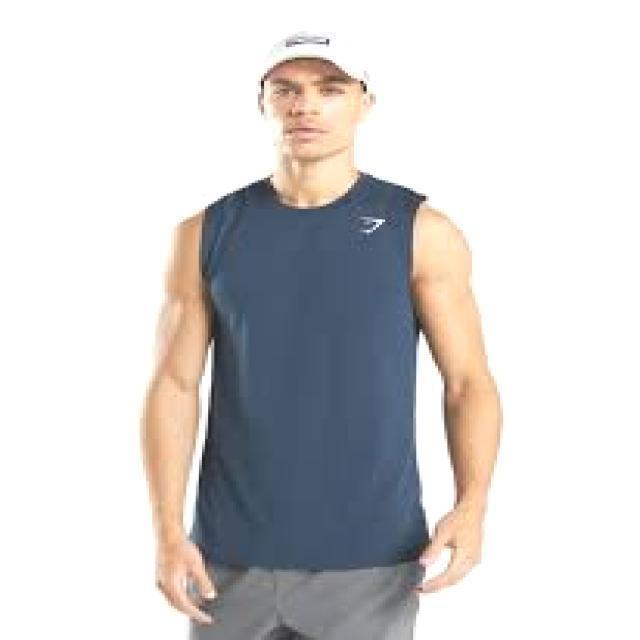no_vest: (190, 168, 434, 568)
